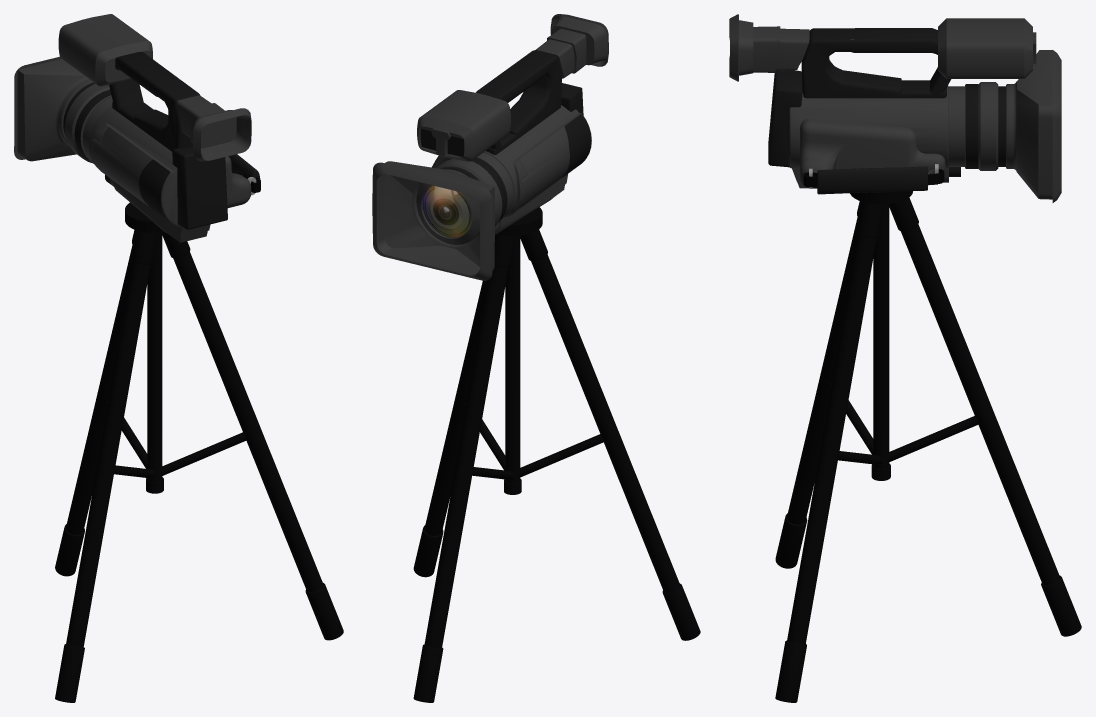
The picture shows the model from 3 angles, left to right: view 1: azimuth 30°, elevation 25°; view 2: azimuth 150°, elevation 25°; view 3: azimuth 270°, elevation 25°; orthographic projection. The views are drawn at different scales.
Visible parts, largest first — view 1: video_camera_3, tripod_4; view 2: video_camera_3, tripod_4; view 3: video_camera_3, tripod_4.
Part boxes in pixels (x1,y1,x2,y2): video_camera_3: (14,14,260,242); tripod_4: (55,202,343,702); video_camera_3: (372,14,608,280); tripod_4: (413,207,700,702); video_camera_3: (729,14,1061,202); tripod_4: (775,191,1081,702).
Size of the model in its own units: 1.1 by 2.11 by 1.11.
7 materials, 1 textured.
